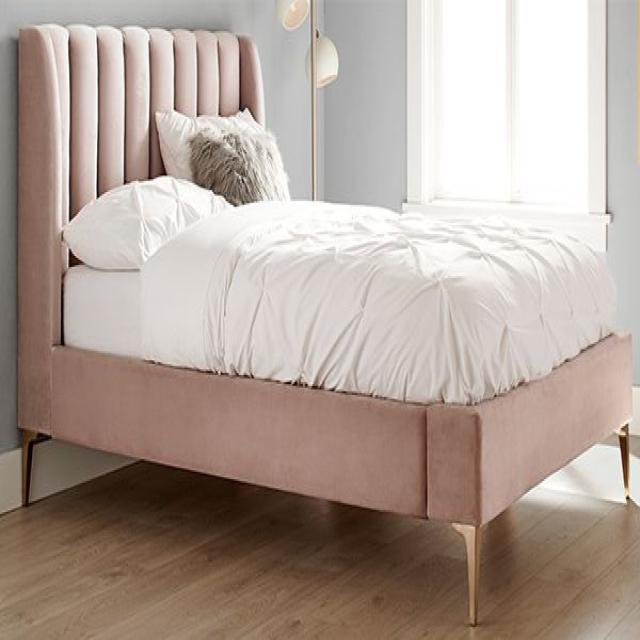obstacle: (15, 22, 632, 625)
